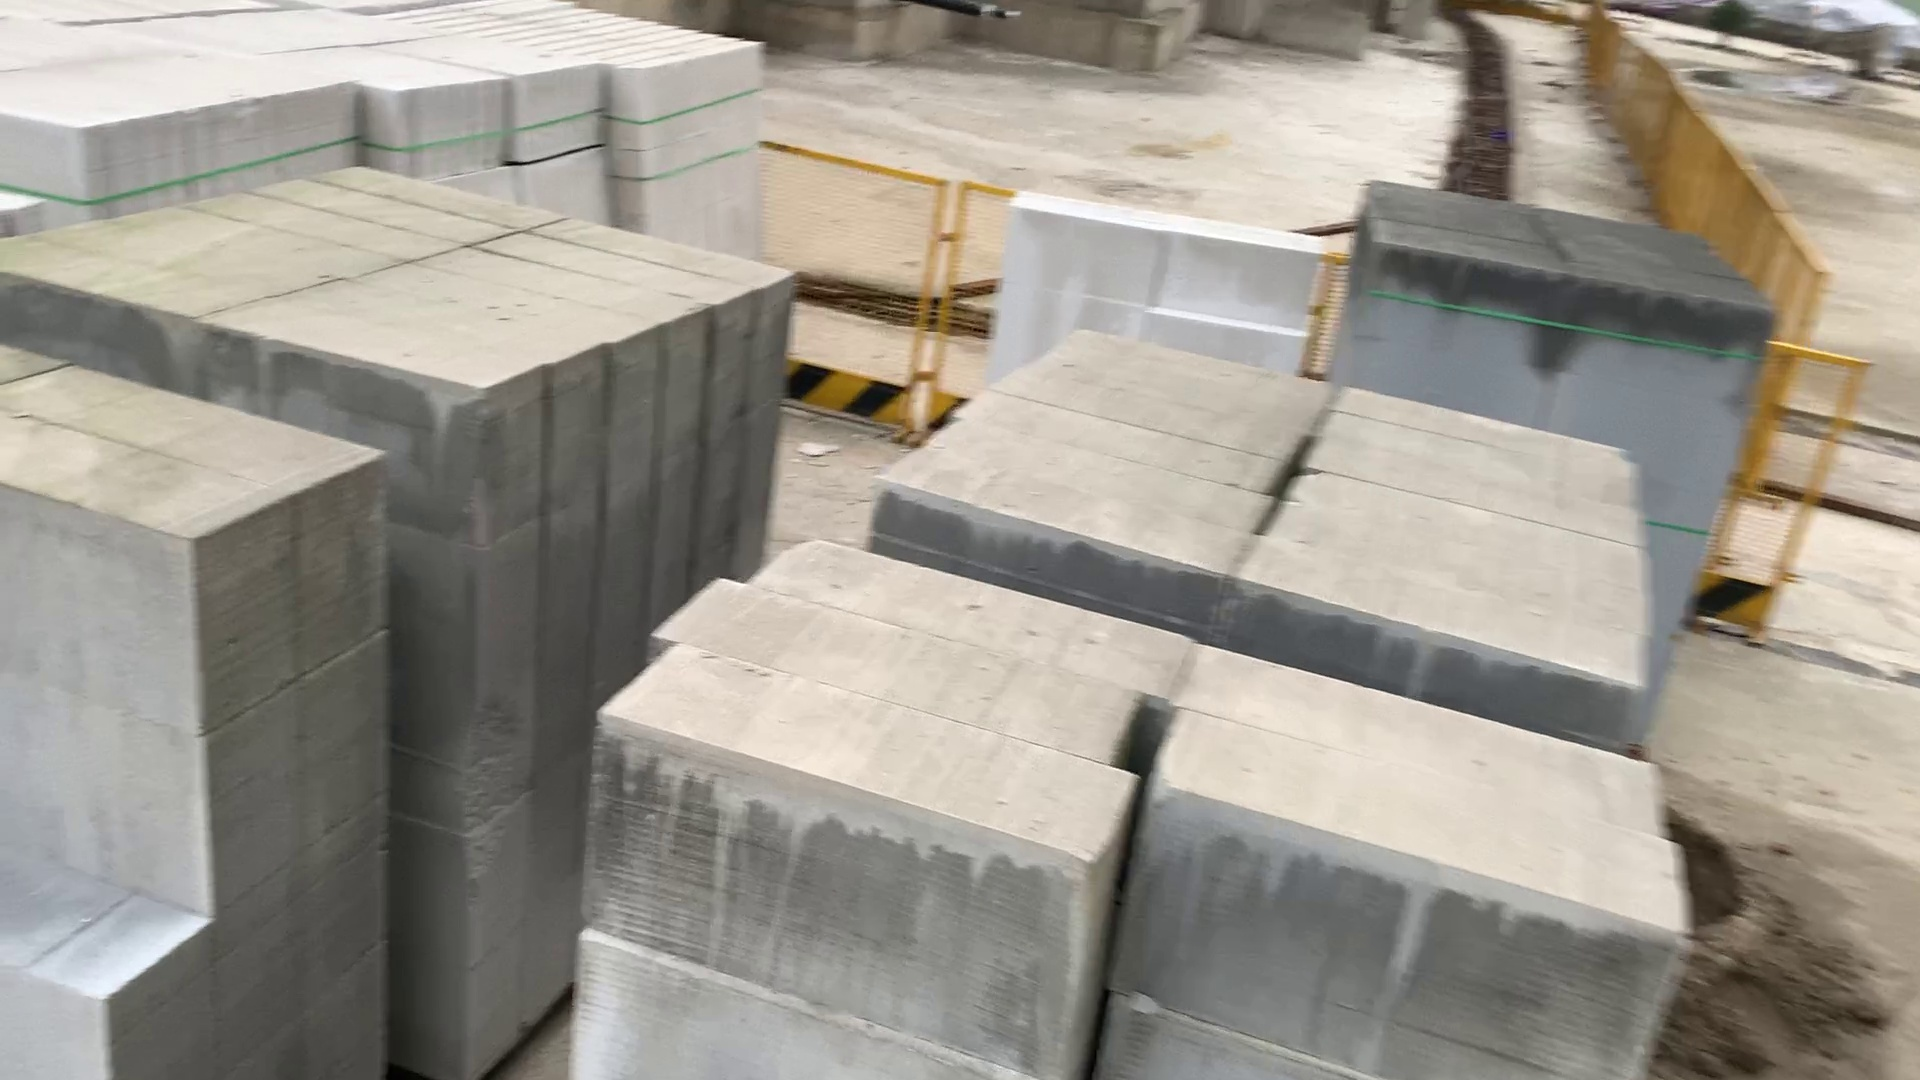brickwork: (651, 549, 1671, 1080), (895, 295, 1654, 700), (4, 348, 393, 1080), (4, 179, 810, 462), (1353, 179, 1774, 410), (376, 15, 773, 216), (3, 18, 363, 170)
